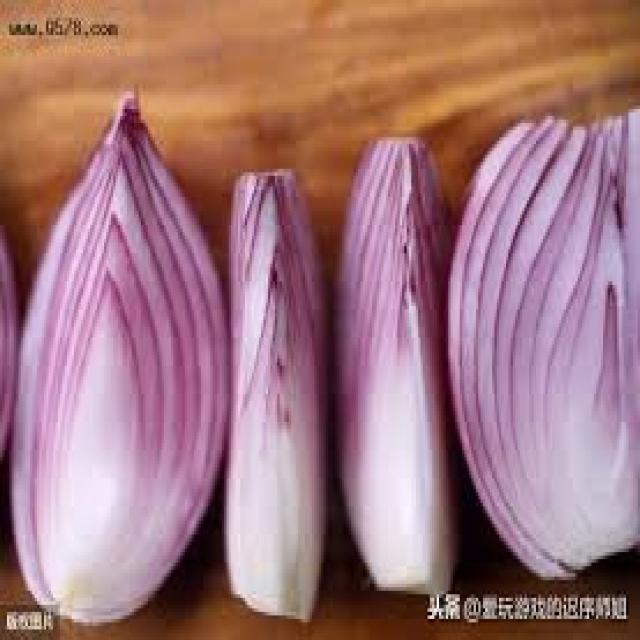food_waste: (0, 95, 323, 619), (335, 109, 638, 591)
